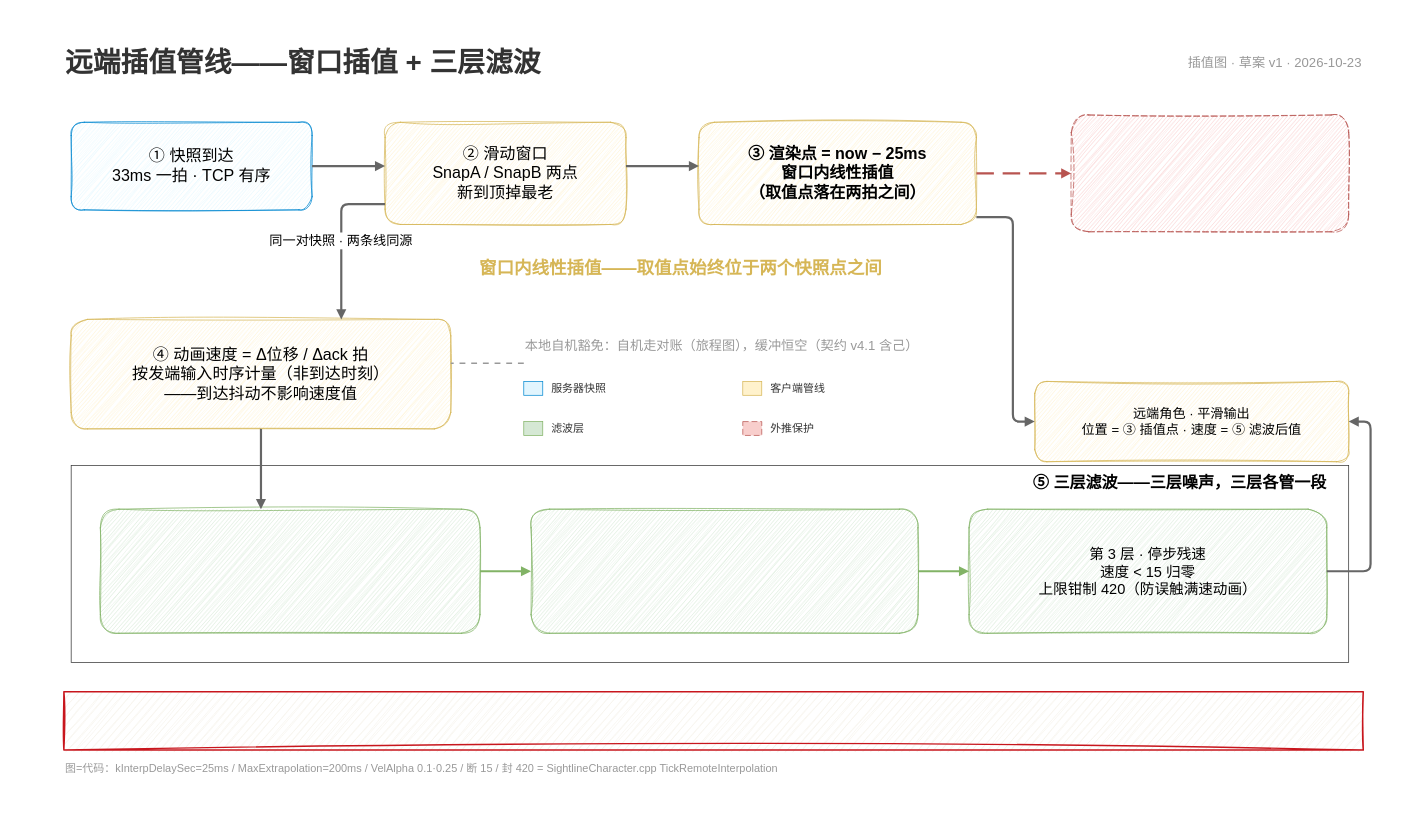
This 1426x813 diagram has some shape labels left out. Here are the shapes that lost their labels. From the top down, the centre of each, then its label:
point (1210, 173): 快照迟到 按末段速度外推 上限 200ms（防过冲穿墙）
point (290, 570): 第 1 层 · 帧到达抖动 由 25ms 渲染延迟余量吸收 （窗口机制，无需滤波器）
point (724, 570): 第 2 层 · 发端上报间隔 20~46ms 抖动 非对称低通：上升 α0.1 滤抖动 下降 α0.25 快速收敛
point (713, 720): 位置走窗口插值，速度走滤波估计——远端平滑驱动
